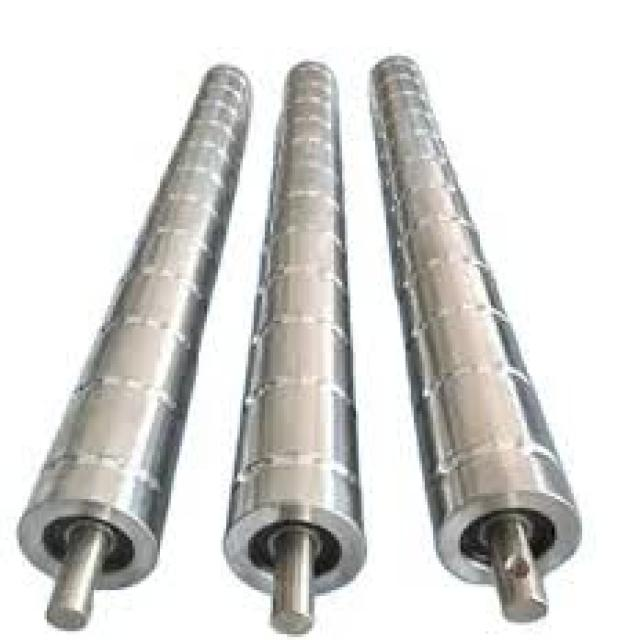Turning: (366, 46, 616, 638), (1, 30, 241, 623), (220, 58, 385, 630)
